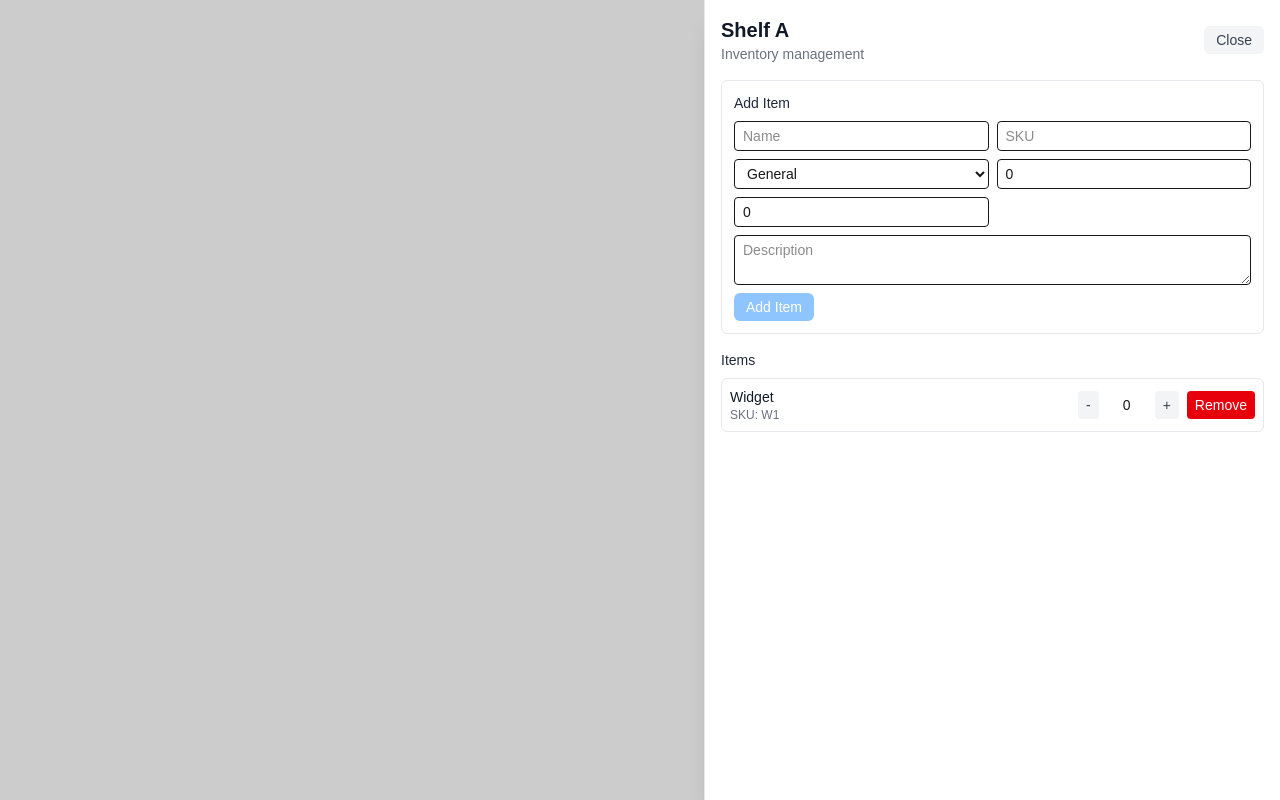
Test: ShelfDetailPanel › adjusts quantities optimistically and rolls back on failure
The width and height of the screenshot is (1280, 800).
Click the button named "Increase Widget". click: (1167, 405)
box: [1155,391,1179,419]
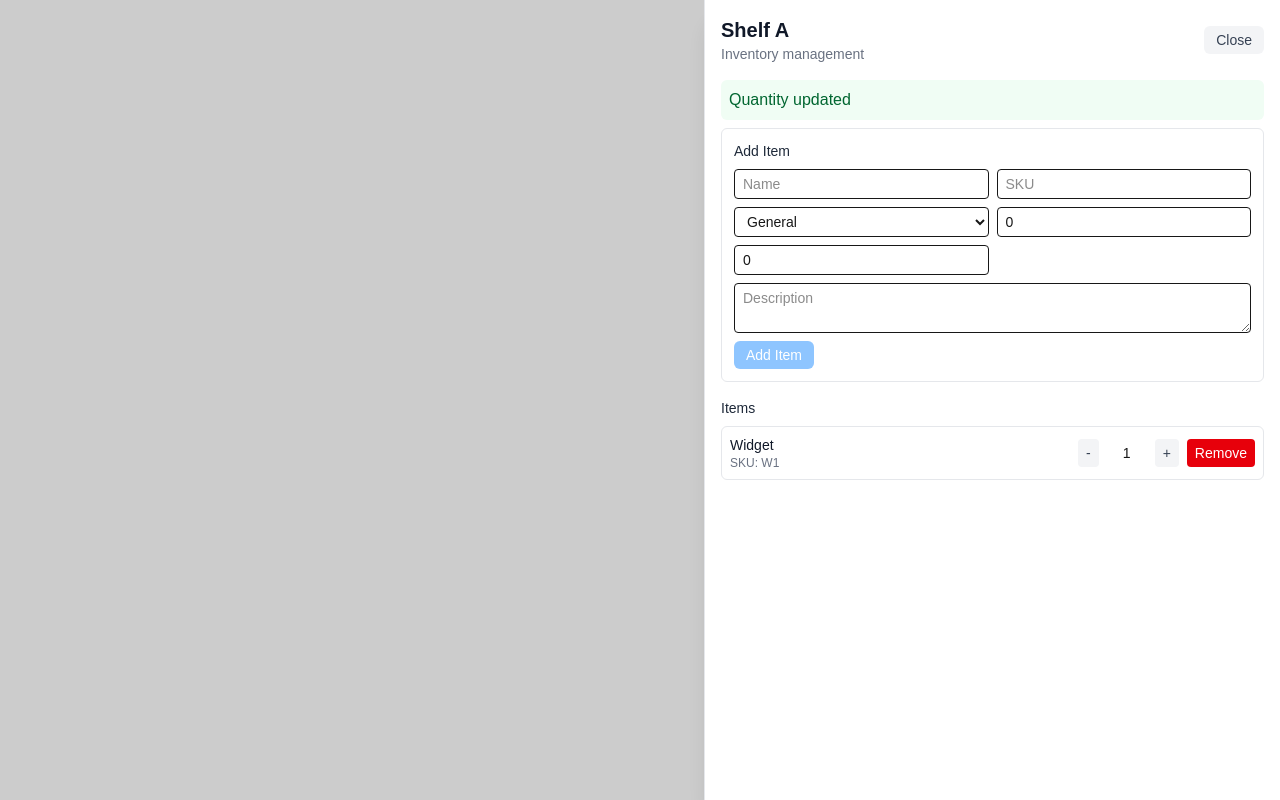
Expected: the text "1" is shown, [1123,445,1131,461]
Click the button named "Decrease Widget". click: (1088, 453)
box: [1078,439,1099,467]
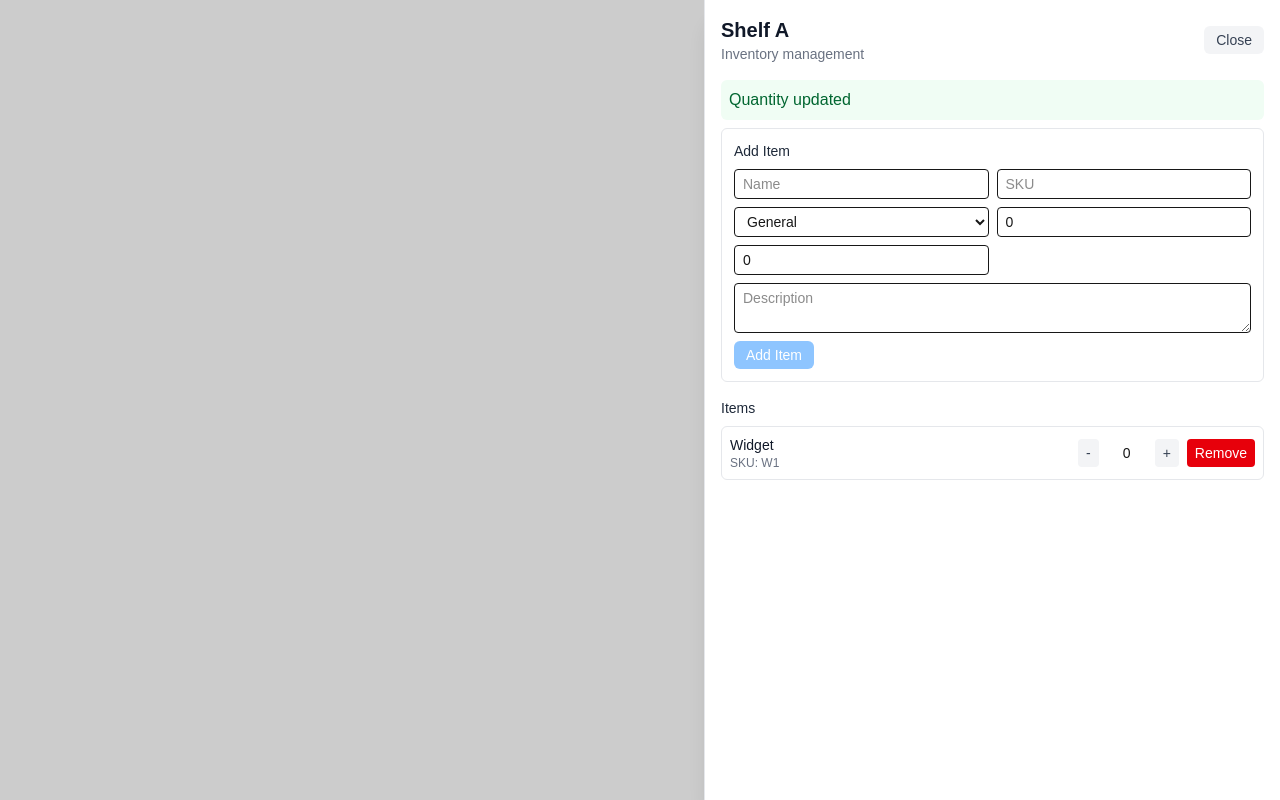
Expected: the text "0" is shown, [1123,445,1131,461]
Click the button named "Decrease Widget". click: (1088, 453)
box: [1078,439,1099,467]
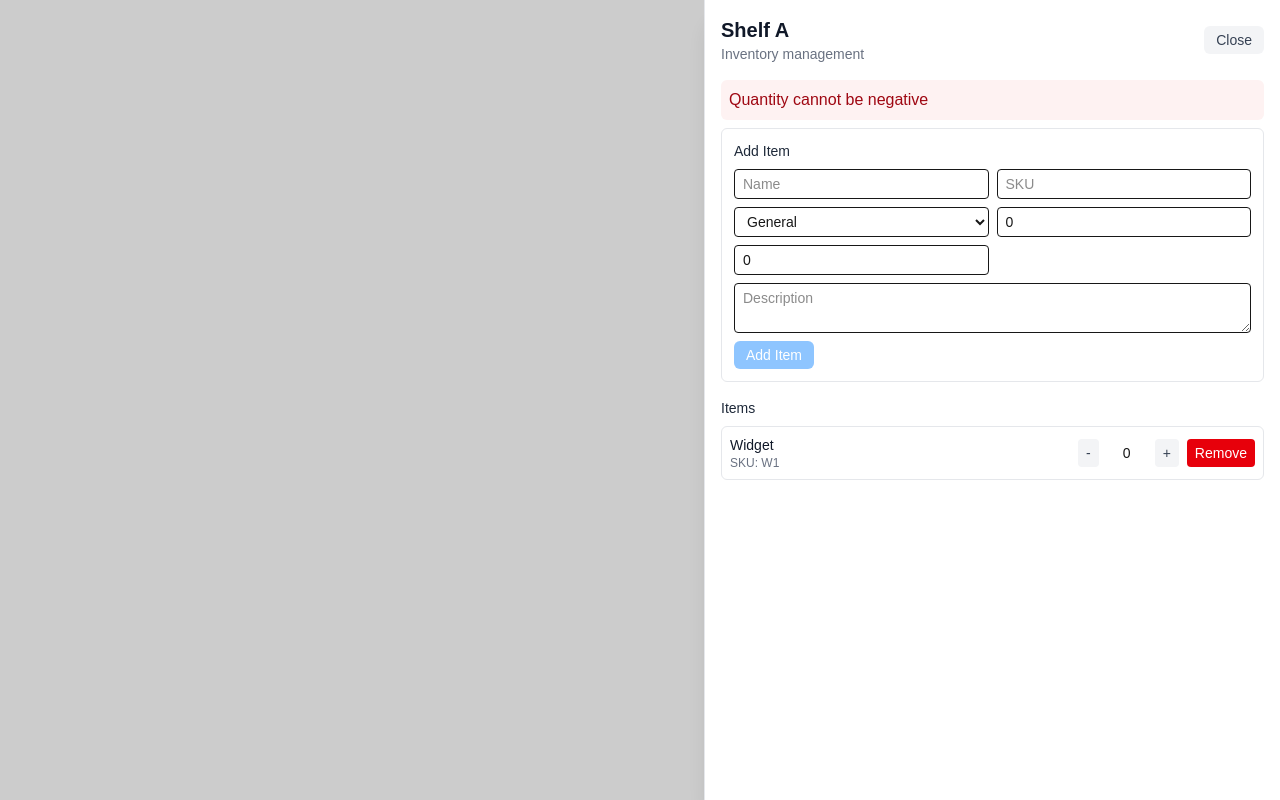
Expected: the text "0" is shown, [1123,445,1131,461]
Expected: the text with test id "status-error" reads "Quantity cannot be negative", [729,91,928,108]
